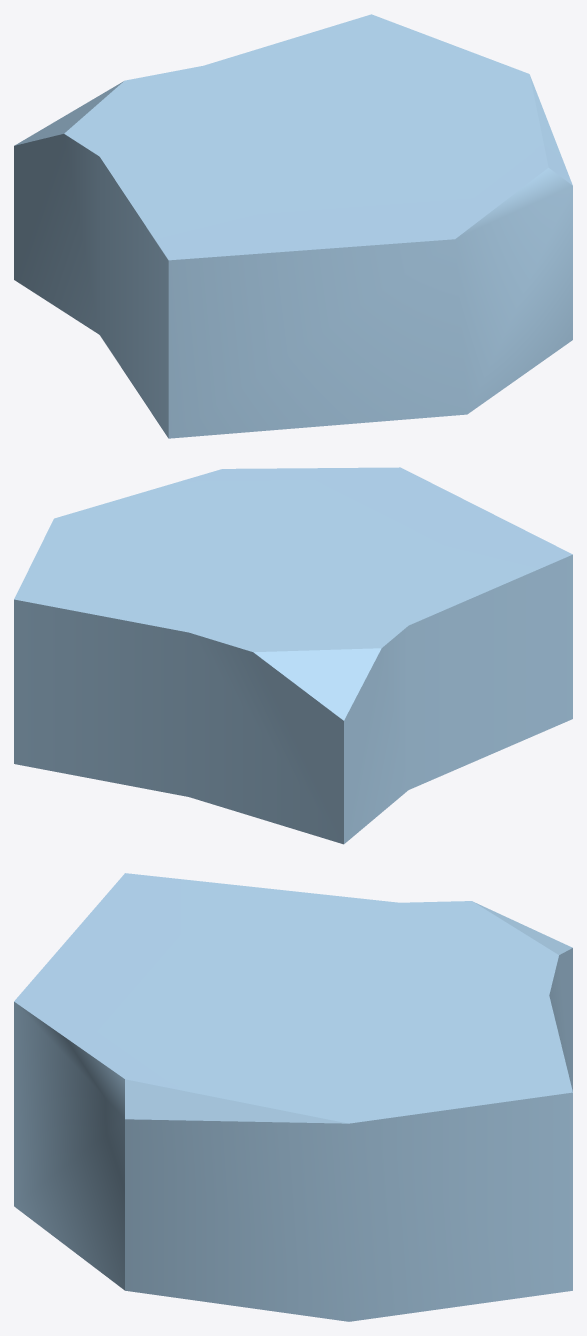
The model's file is Rock 24.FBX.
3 views of the same model, one above another, from view 1: azimuth 30°, elevation 25°; view 2: azimuth 150°, elevation 25°; view 3: azimuth 270°, elevation 25° (orthographic). The views are drawn at different scales.
Visible parts, largest first — view 1: Box001; view 2: Box001; view 3: Box001.
Part boxes in pixels (x1,y1,x2,y2): Box001: (14,14,572,438); Box001: (14,467,572,844); Box001: (14,873,572,1321).
Size of the model in its own units: 29.16 by 10.76 by 27.5.
